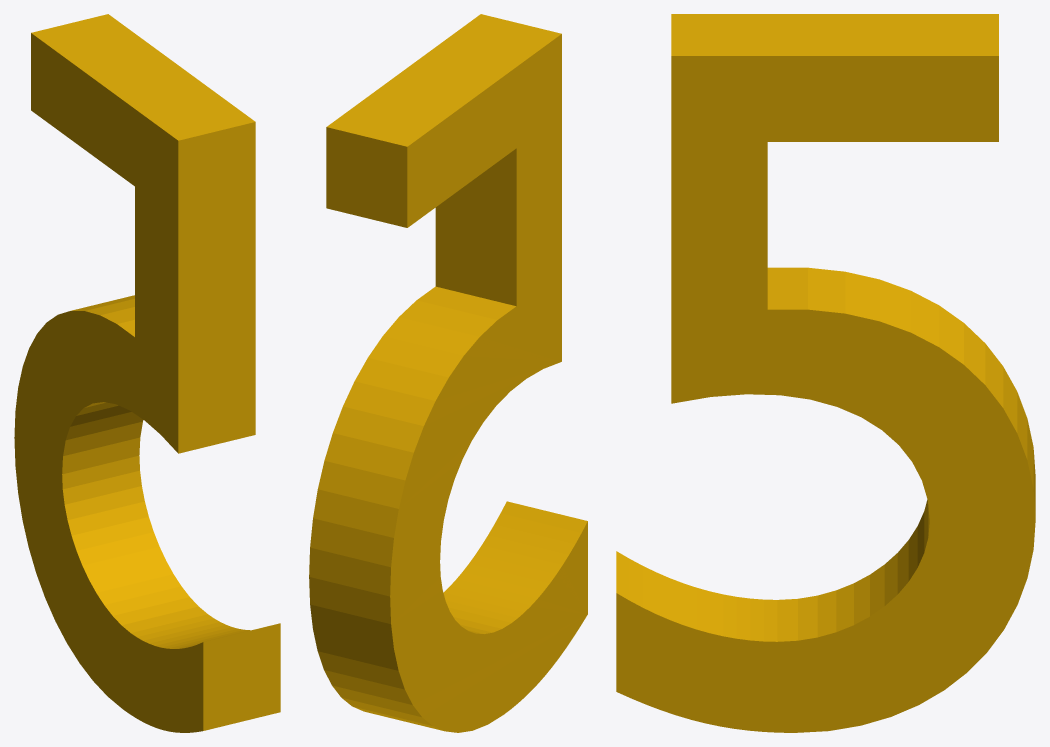
The model's file is number(5).fbx.
3 views of the same model, side by side, from view 1: azimuth 30°, elevation 25°; view 2: azimuth 150°, elevation 25°; view 3: azimuth 270°, elevation 25° (orthographic). The views are drawn at different scales.
Parts seen in each view (by area): view 1: Text; view 2: Text; view 3: Text.
Boxes of the visible parts, x1=… form: Text: x1=14, y1=14, x2=280, y2=732; Text: x1=309, y1=14, x2=587, y2=732; Text: x1=616, y1=14, x2=1035, y2=732.
Size of the model in its own units: 9.18 by 69.1 by 38.8.
